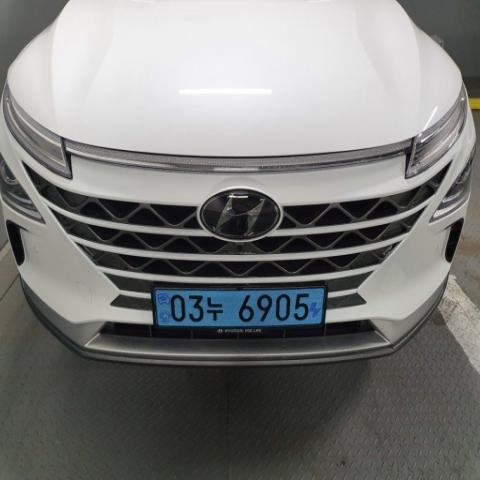LP: (142, 273, 330, 350)
